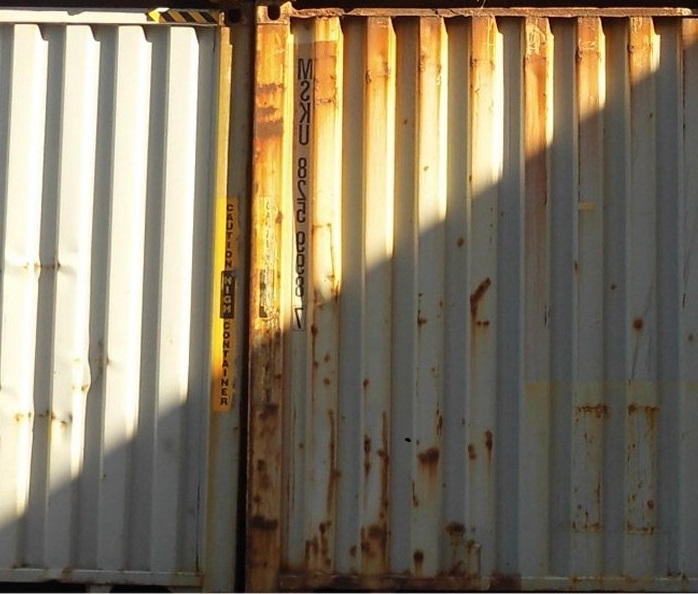container_no_door: (244, 4, 698, 587), (1, 1, 239, 589)
